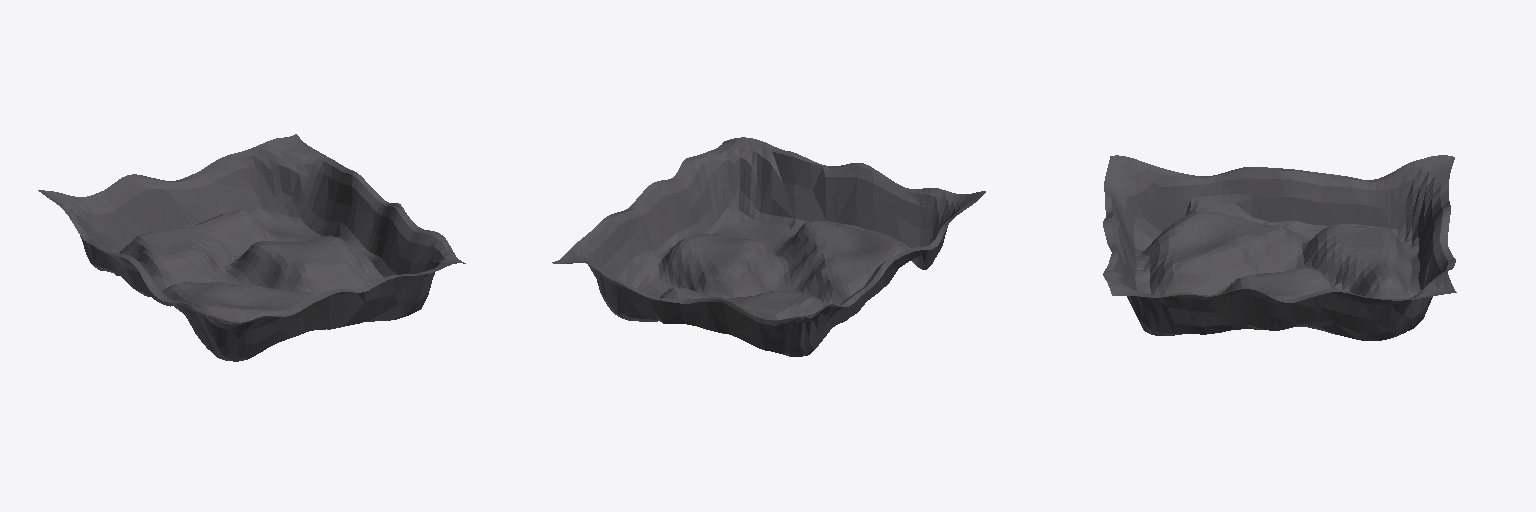
The picture shows the model from 3 angles: view 1: azimuth 30°, elevation 25°; view 2: azimuth 150°, elevation 25°; view 3: azimuth 270°, elevation 25°; orthographic projection.
Parts seen in each view (by area): view 1: Meshesterrain11; view 2: Meshesterrain11; view 3: Meshesterrain11.
Boxes of the visible parts, <box> form: Meshesterrain11: <box>38,134,465,361</box>; Meshesterrain11: <box>552,137,985,356</box>; Meshesterrain11: <box>1103,155,1456,340</box>.
Size of the model in its own units: 174 by 44.18 by 198.